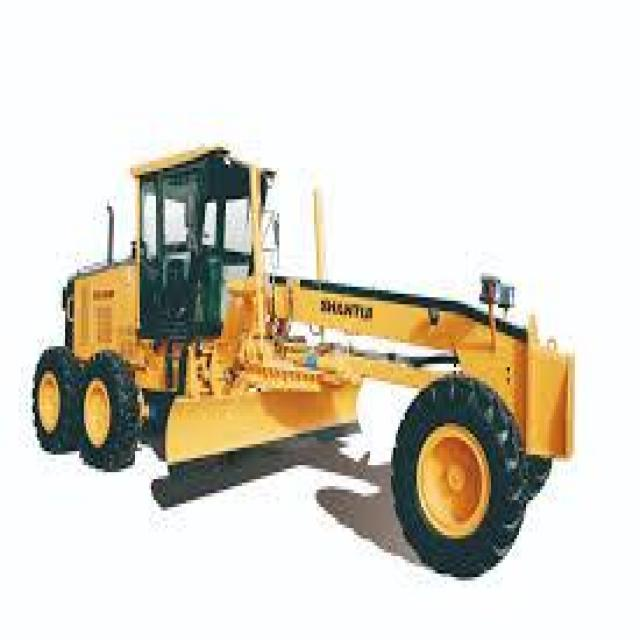Grader: (14, 101, 586, 577)
